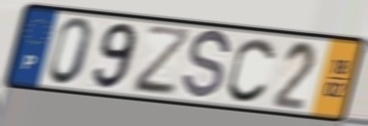0: (47, 15, 96, 87)
2: (269, 39, 320, 113)
9: (90, 21, 140, 92)
C: (225, 35, 279, 105)
S: (179, 28, 234, 104)
Z: (132, 24, 194, 99)
